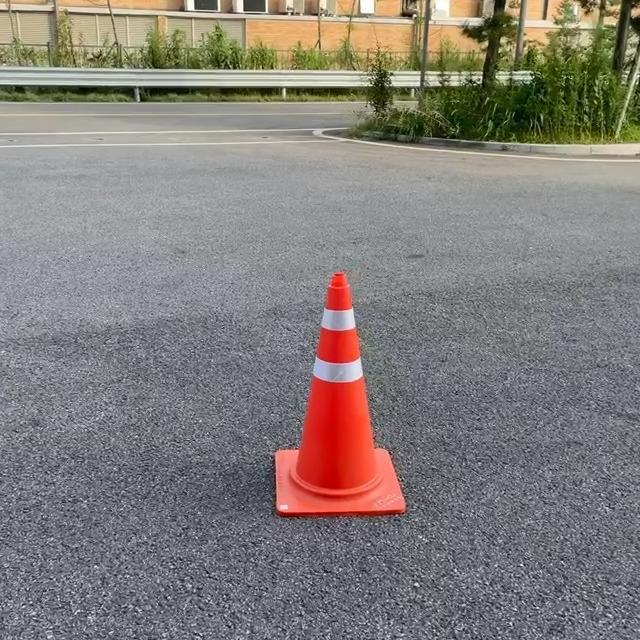fallen_object: (253, 222, 476, 546)
